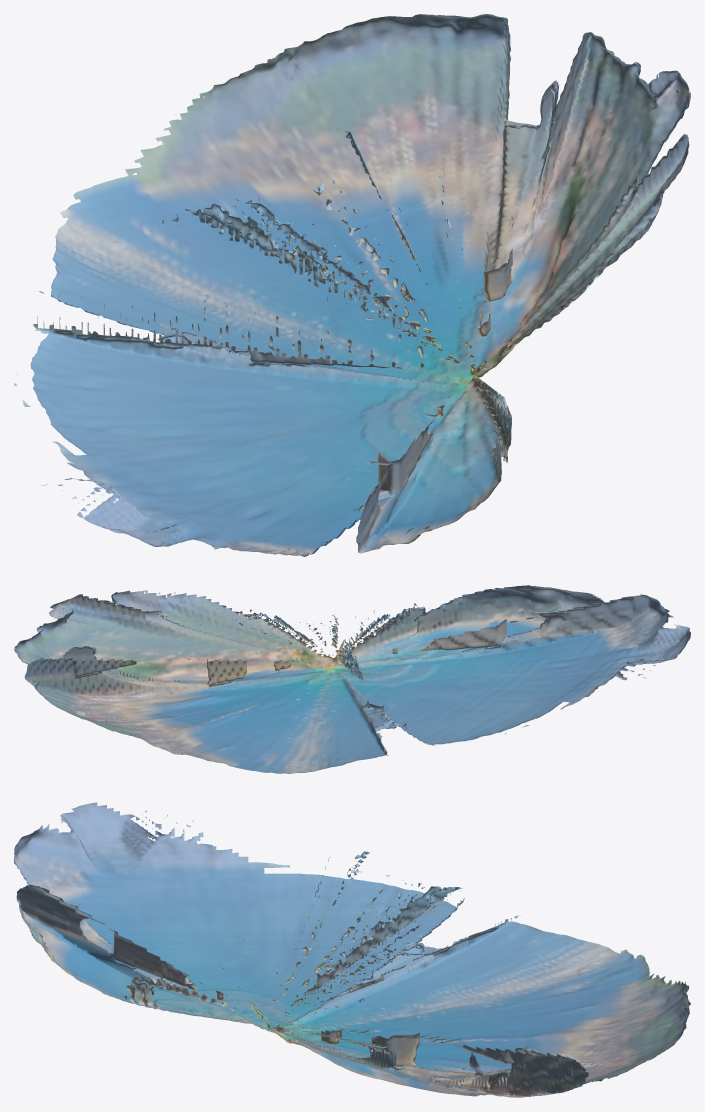
Rendered from Mediterranean Balcony with Wisteria_collider.glb.
3 renders of one model, top to bottom at view 1: azimuth 30°, elevation 25°; view 2: azimuth 150°, elevation 25°; view 3: azimuth 270°, elevation 25°, orthographic. The views are drawn at different scales.
Parts seen in each view (by area): view 1: world; view 2: world; view 3: world.
Boxes of the visible parts, bbox=[...] form: world: bbox=[14, 14, 690, 556]; world: bbox=[14, 585, 690, 773]; world: bbox=[14, 802, 690, 1097].
Size of the model in its own units: 554 by 116 by 533.
